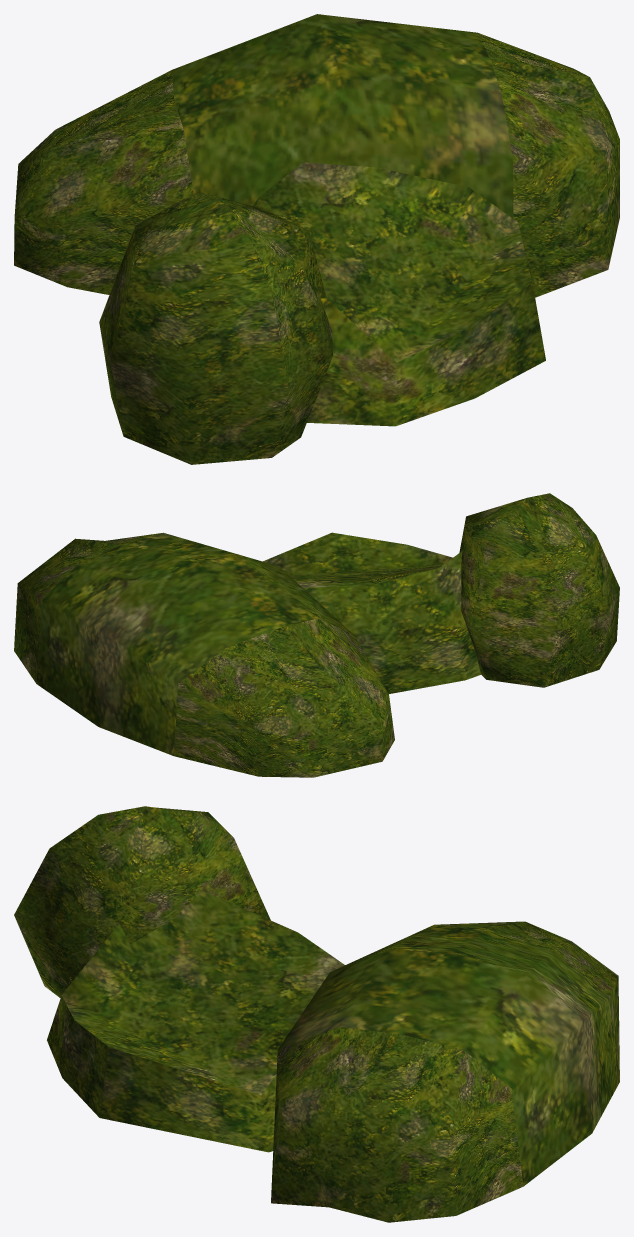
File: OVERHILL_A_01_ROCK_BRIDGE_BASE02.fbx
3 views of the same model, one above another, from view 1: azimuth 30°, elevation 25°; view 2: azimuth 150°, elevation 25°; view 3: azimuth 270°, elevation 25° (orthographic). The views are drawn at different scales.
Visible parts, largest first — view 1: OVERHILL_A_01_ROCK_BRIDGE_BASE02; view 2: OVERHILL_A_01_ROCK_BRIDGE_BASE02; view 3: OVERHILL_A_01_ROCK_BRIDGE_BASE02.
Part boxes in pixels (x1,y1,x2,y2): OVERHILL_A_01_ROCK_BRIDGE_BASE02: (14, 14, 619, 464); OVERHILL_A_01_ROCK_BRIDGE_BASE02: (14, 493, 619, 777); OVERHILL_A_01_ROCK_BRIDGE_BASE02: (14, 806, 619, 1222).
Bounding box in the file's own units: 33489 × 12141 × 31175.
2 materials, 2 textured.
